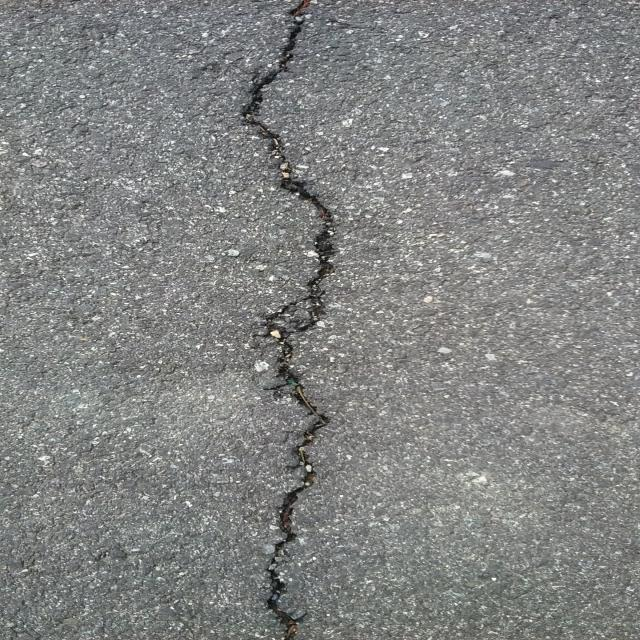Longitudial: (213, 1, 354, 640)
